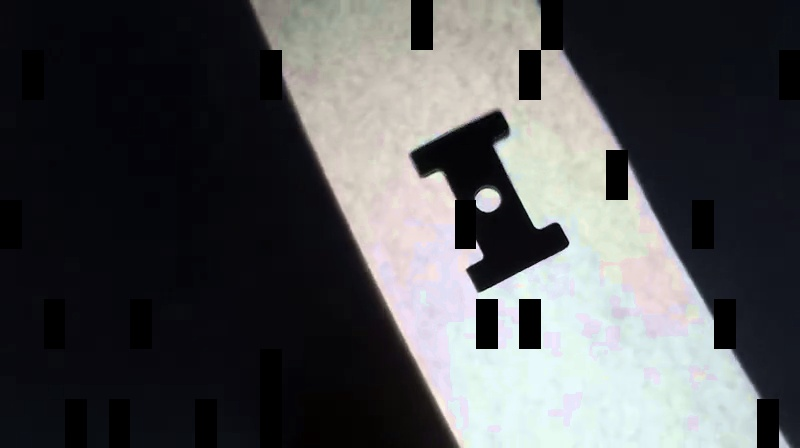O002: (402, 105, 572, 292)
